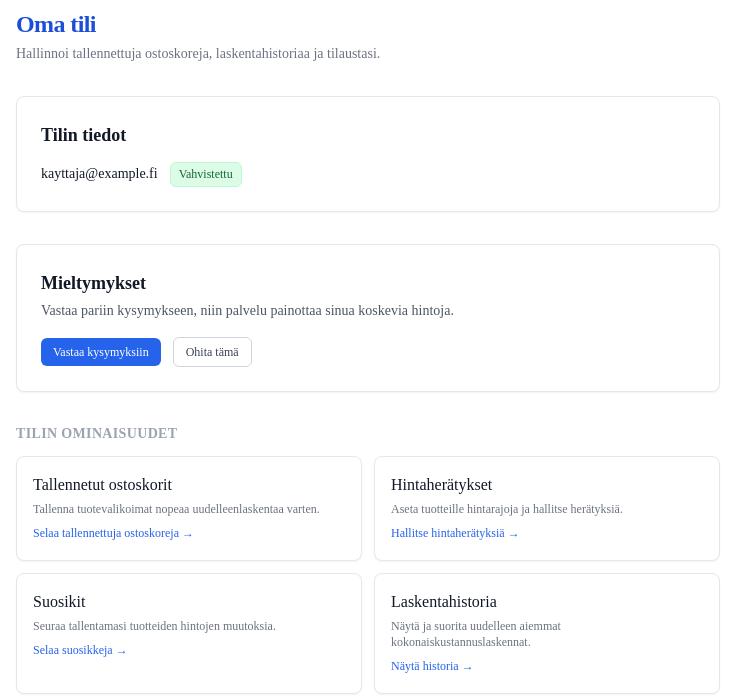
Test: AccountPage onboarding preferences card (task 3.4) › keeps the nudge and shows the inline error when the dismiss PUT fails
Click the button with test id "account-onboarding-dismiss": [212, 352] box [173,337,252,367]
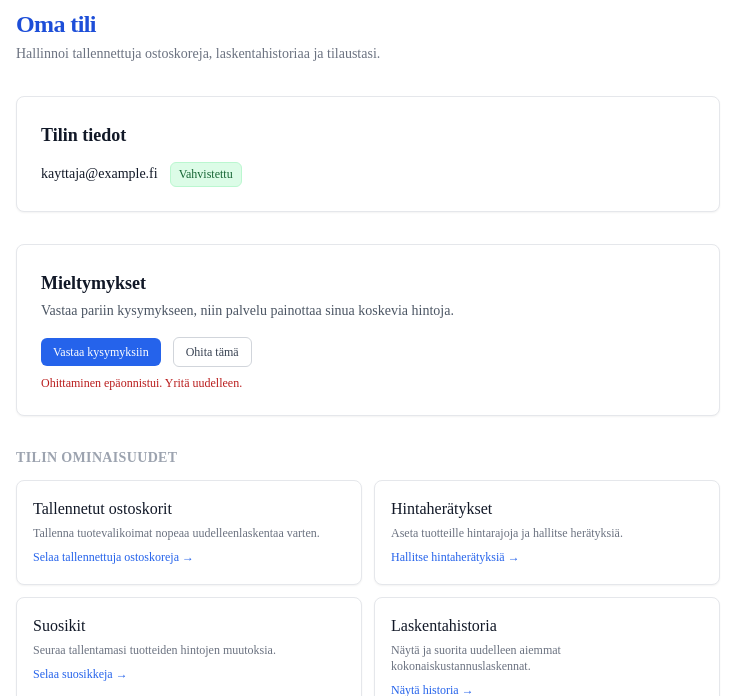
Expected: the element with test id "account-onboarding-nudge" is shown, [41,273,454,390]
Expected: the message "Ohittaminen epäonnistui. Yritä uudelleen." is shown, [41,376,242,390]
